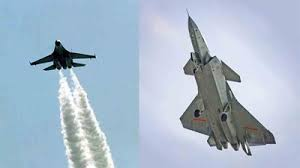maybay_muctieu: (182, 13, 274, 159), (32, 38, 94, 73)
